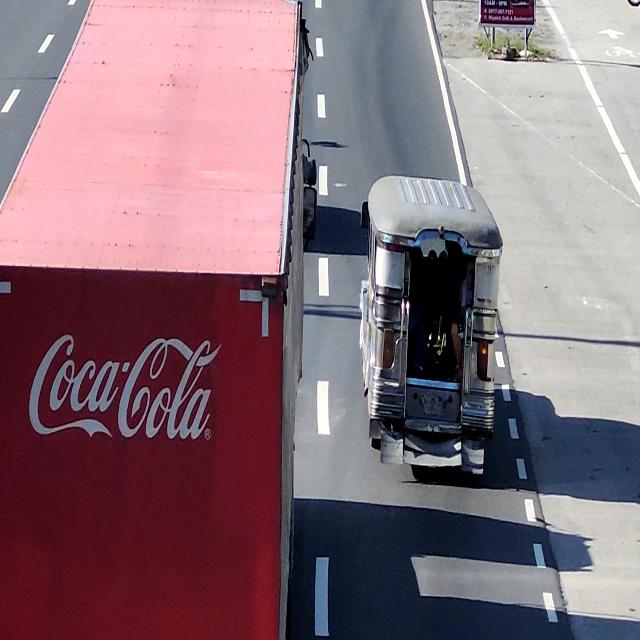Jeep: (362, 177, 498, 481)
Truck: (0, 0, 302, 638)
